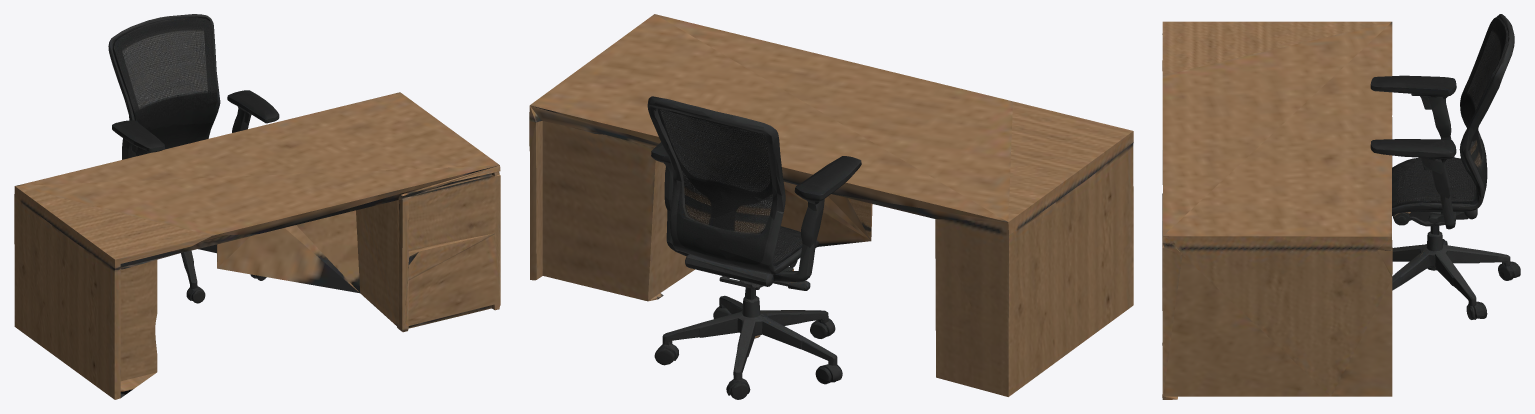
The model's file is office-desk.glb.
3 renders of one model, left to right at view 1: azimuth 30°, elevation 25°; view 2: azimuth 150°, elevation 25°; view 3: azimuth 270°, elevation 25°, orthographic. The views are drawn at different scales.
Visible parts, largest first — view 1: output_unwrapped; view 2: output_unwrapped; view 3: output_unwrapped.
Boxes of the visible parts, x1,y1,x2,y2 form: output_unwrapped: (14,14,500,399); output_unwrapped: (529,14,1133,399); output_unwrapped: (1162,14,1520,399).
Bounding box in the file's own units: 2.14 × 1.2 × 1.51.
1 material, 1 textured.
